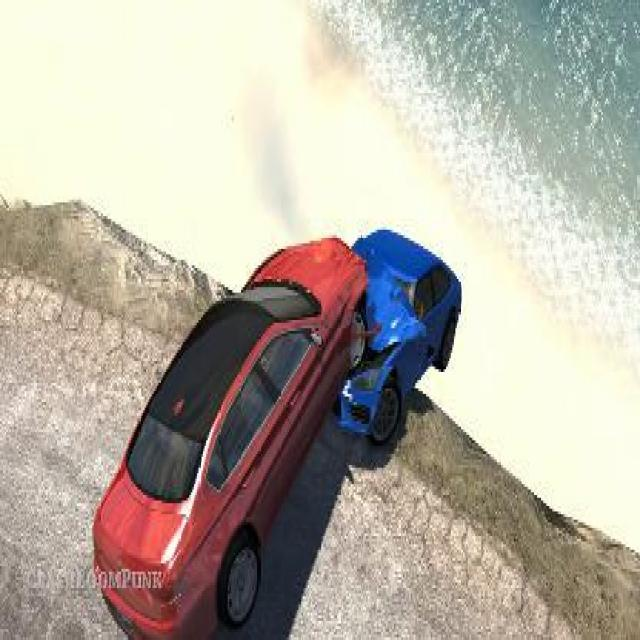accident: (88, 227, 462, 637)
